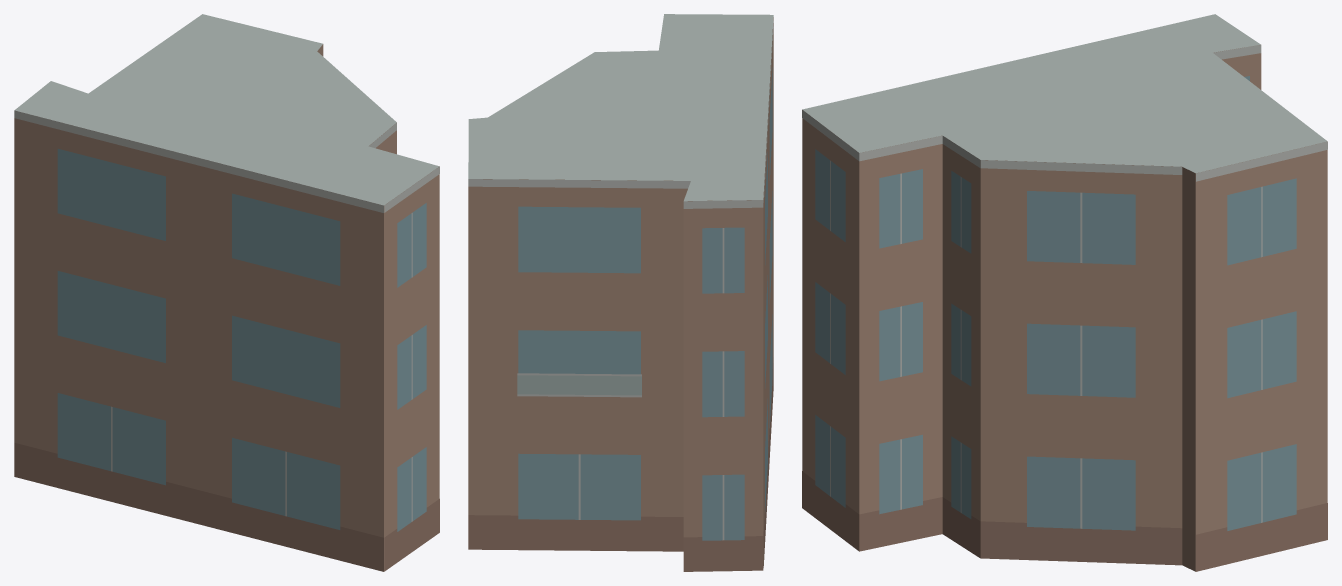
File: survey-upis-32485025.glb
3 views of the same model, side by side, from view 1: azimuth 30°, elevation 25°; view 2: azimuth 150°, elevation 25°; view 3: azimuth 270°, elevation 25° (orthographic). The views are drawn at different scales.
Visible parts, largest first — view 1: survey-upis-32485025.tmp; view 2: survey-upis-32485025.tmp; view 3: survey-upis-32485025.tmp.
Boxes of the visible parts, x1=… form: survey-upis-32485025.tmp: x1=14, y1=14, x2=439, y2=571; survey-upis-32485025.tmp: x1=468, y1=14, x2=773, y2=571; survey-upis-32485025.tmp: x1=802, y1=14, x2=1327, y2=571.
Bounding box in the file's own units: 9.95 × 11.6 × 13.88.
